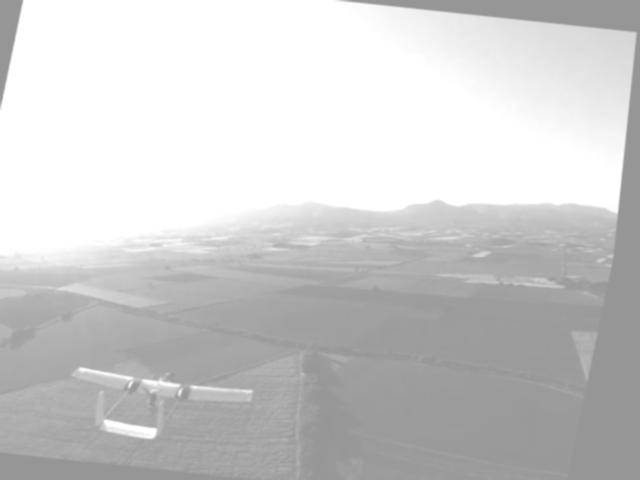hedef: (58, 346, 273, 458)
